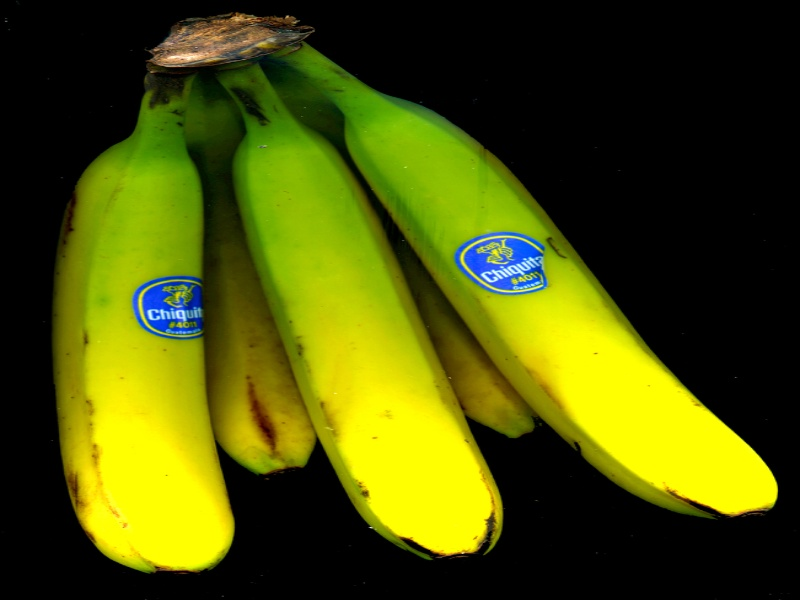banana: (67, 16, 782, 572), (220, 28, 509, 574), (56, 37, 237, 574)
